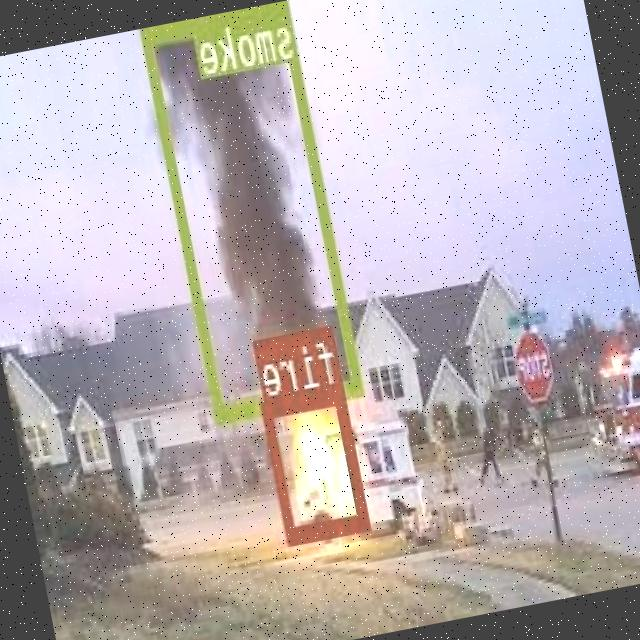fire: (262, 382, 372, 540)
smoke: (143, 0, 364, 418)
